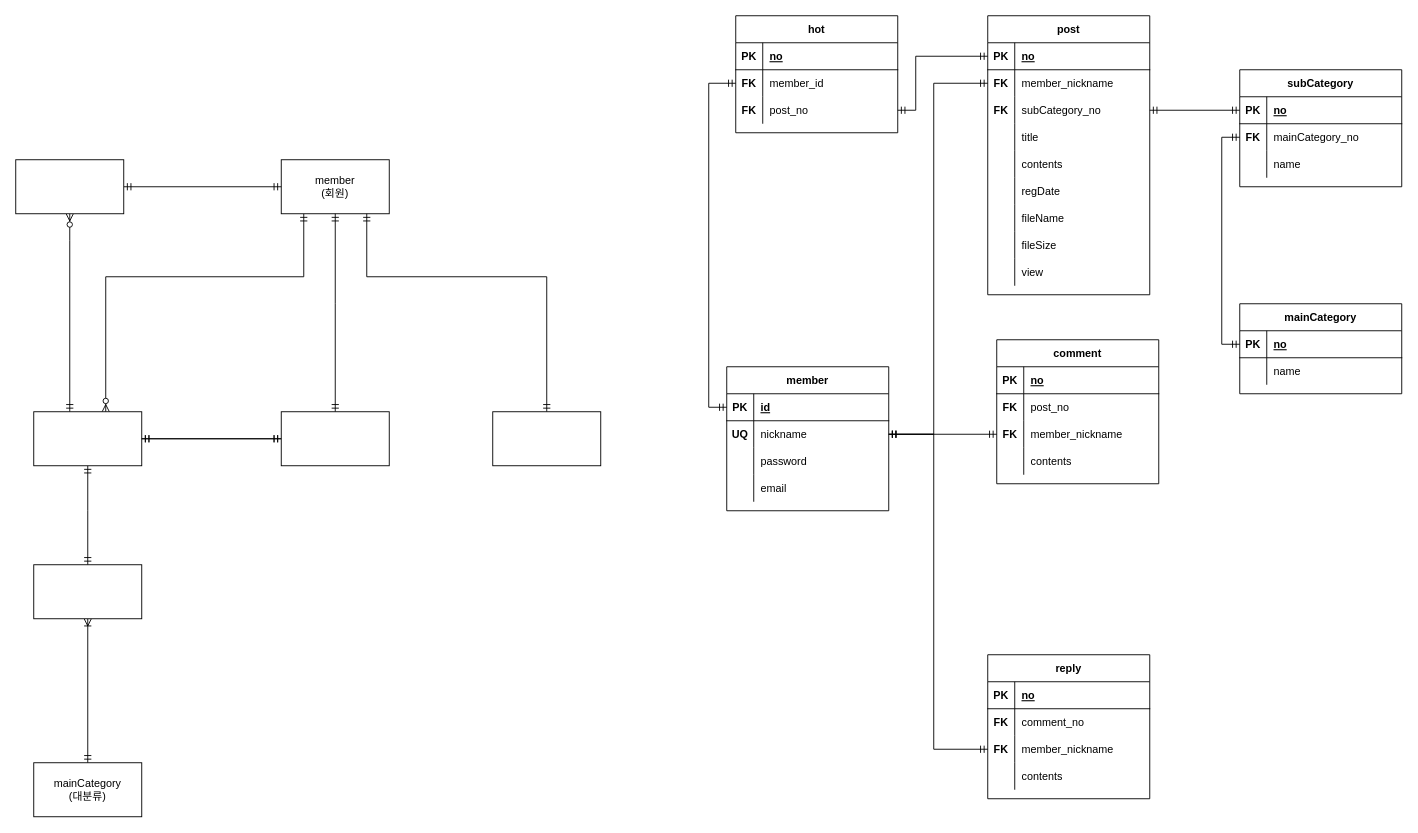
Some shapes in this 1418 by 833 pixel diagram are drawn without their labels. Here are the shapes that lost their labels. From the top down, the centre of each, then its label:
point 69,186: hot (좋아요)
point 87,438: post (게시글)
point 334,438: comment (댓글)
point 546,438: reply (답글)
point 87,591: subCategory (소분류)
